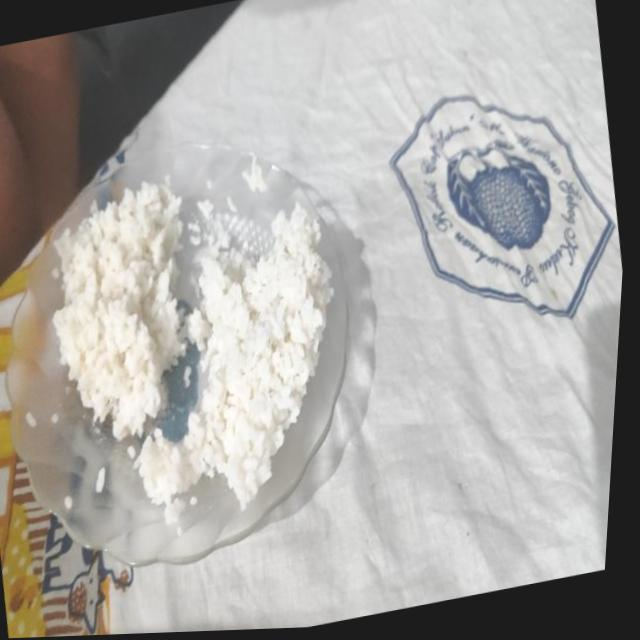nasi_putih: (135, 202, 333, 522), (54, 182, 188, 440)
